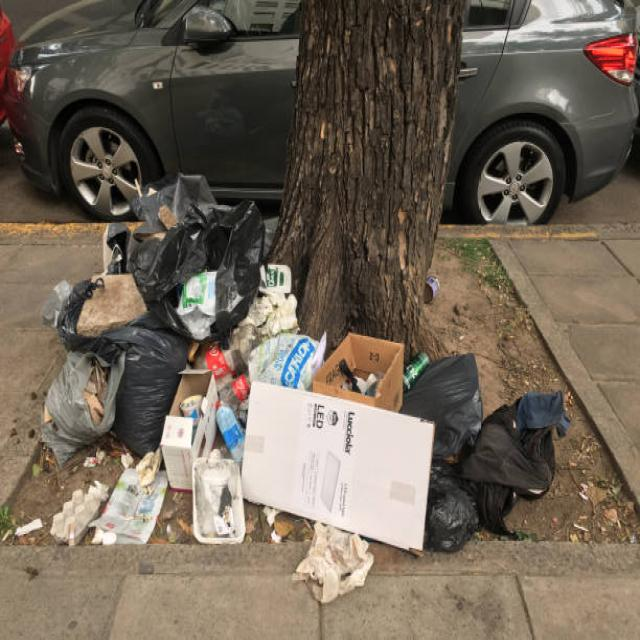cardboard: (323, 326, 405, 417)
trash: (57, 219, 315, 506), (413, 361, 566, 556)
